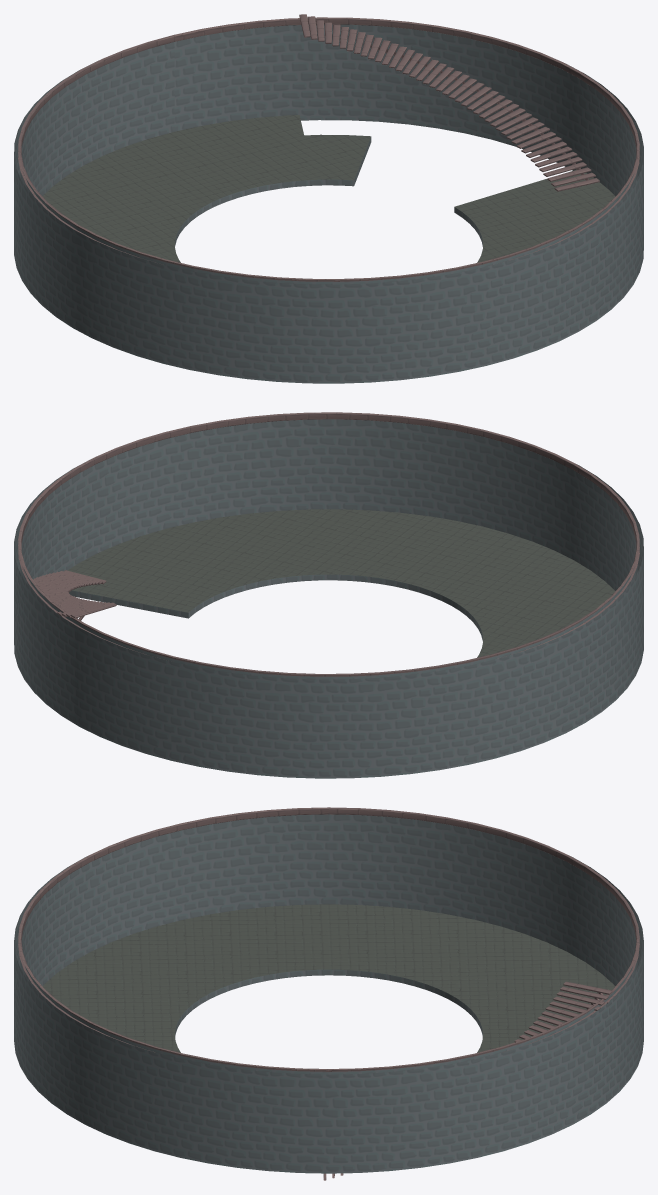
The model's file is towerMiddleFloor.fbx.
3 views of the same model, one above another, from view 1: azimuth 30°, elevation 25°; view 2: azimuth 150°, elevation 25°; view 3: azimuth 270°, elevation 25° (orthographic).
Visible parts, largest first — view 1: TowerMidFloorFinal; view 2: TowerMidFloorFinal; view 3: TowerMidFloorFinal.
Part boxes in pixels (<box>): TowerMidFloorFinal: <box>14,14,643,383</box>; TowerMidFloorFinal: <box>14,412,643,778</box>; TowerMidFloorFinal: <box>14,807,643,1180</box>.
Size of the model in its own units: 4900 by 971 by 4900.
